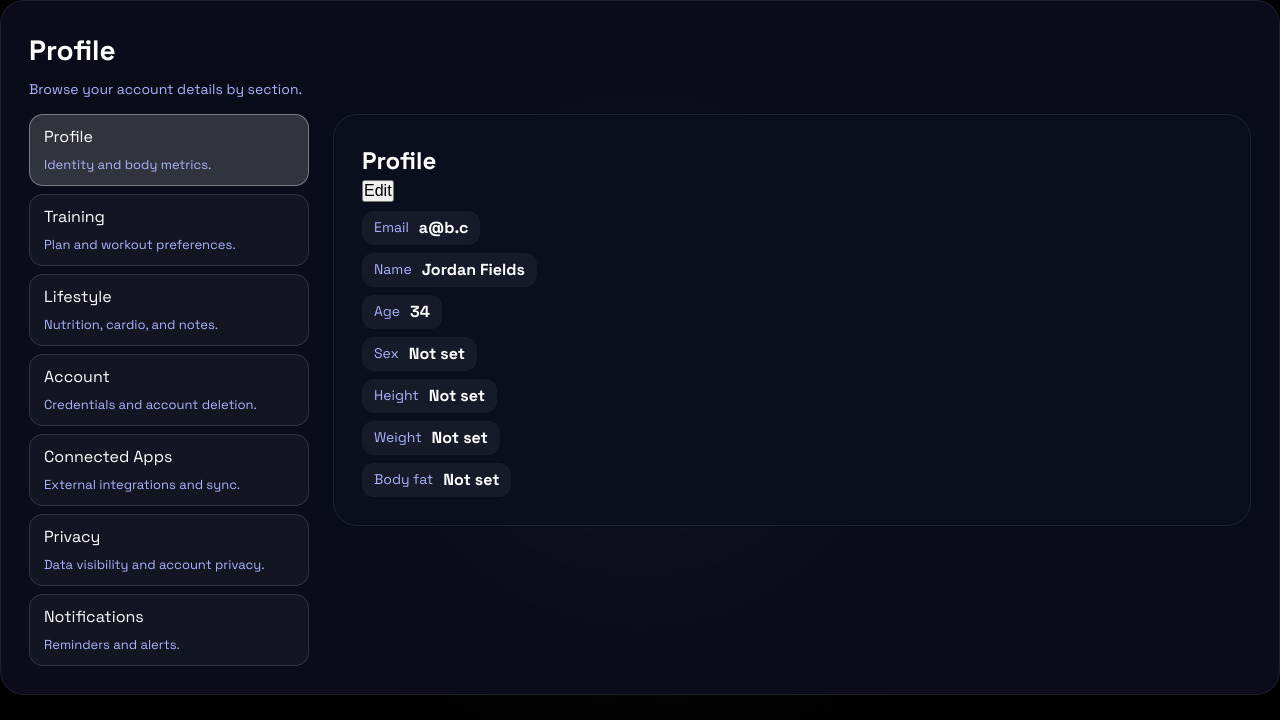
Test: editing a tab › offers no Edit on a placeholder tab
The image size is (1280, 720).
Click the tab "Privacy Data visibility and account privacy.". click: (72, 536)
box: x1=29 y1=514 x2=309 y2=586
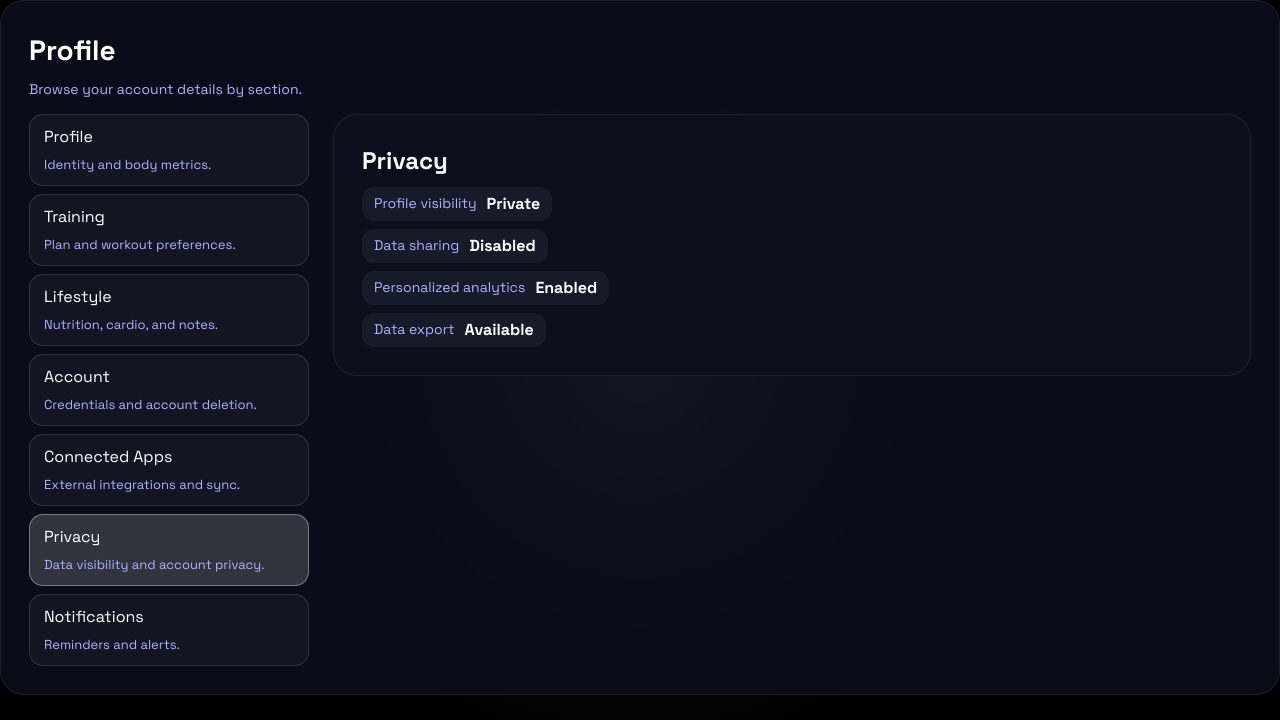
Check: the button "Edit" is gone
